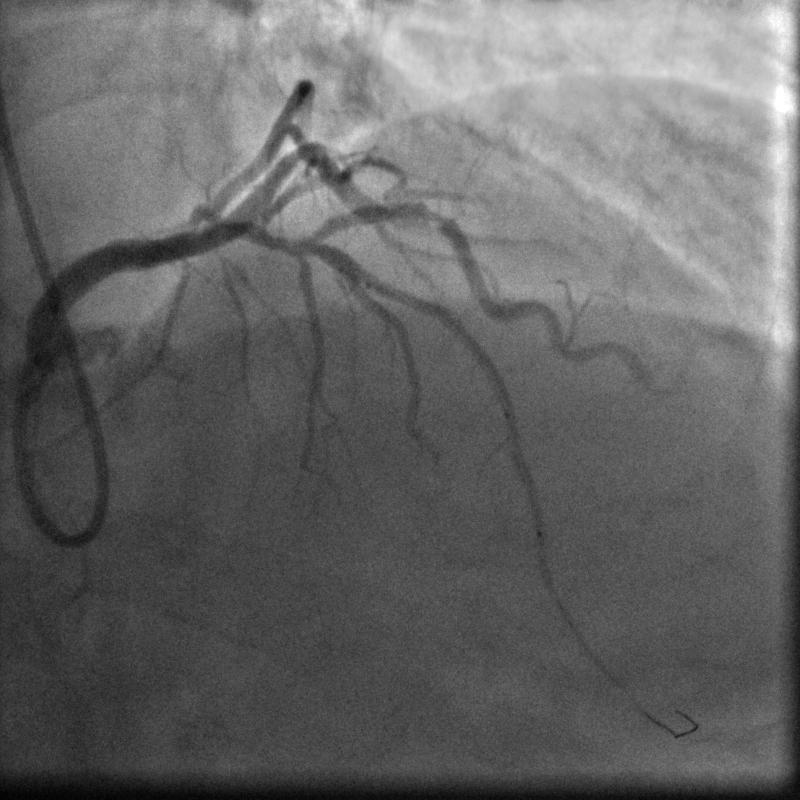Stenosis: (416, 196, 451, 237)
